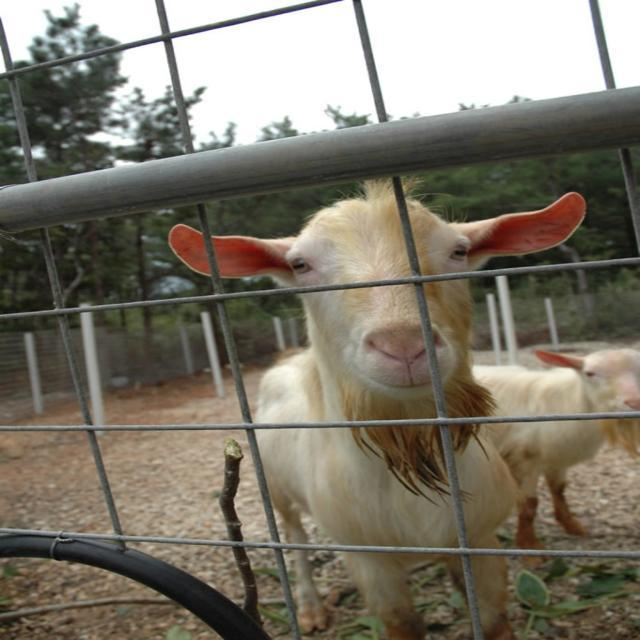Goat: (167, 174, 588, 638), (468, 346, 638, 568)
